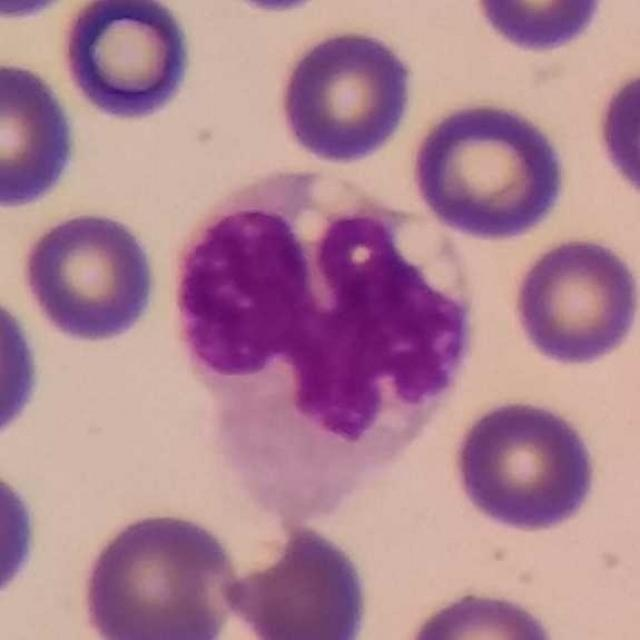Monocyte: (173, 160, 479, 536)
RBC: (406, 94, 572, 243), (74, 505, 245, 640), (448, 394, 602, 535), (272, 25, 420, 168), (17, 206, 164, 346), (218, 518, 375, 640), (507, 231, 640, 369), (56, 0, 198, 126), (0, 55, 81, 212), (396, 584, 562, 640), (468, 0, 611, 56), (0, 284, 46, 451), (0, 459, 45, 616), (591, 63, 640, 206), (0, 0, 88, 24)
